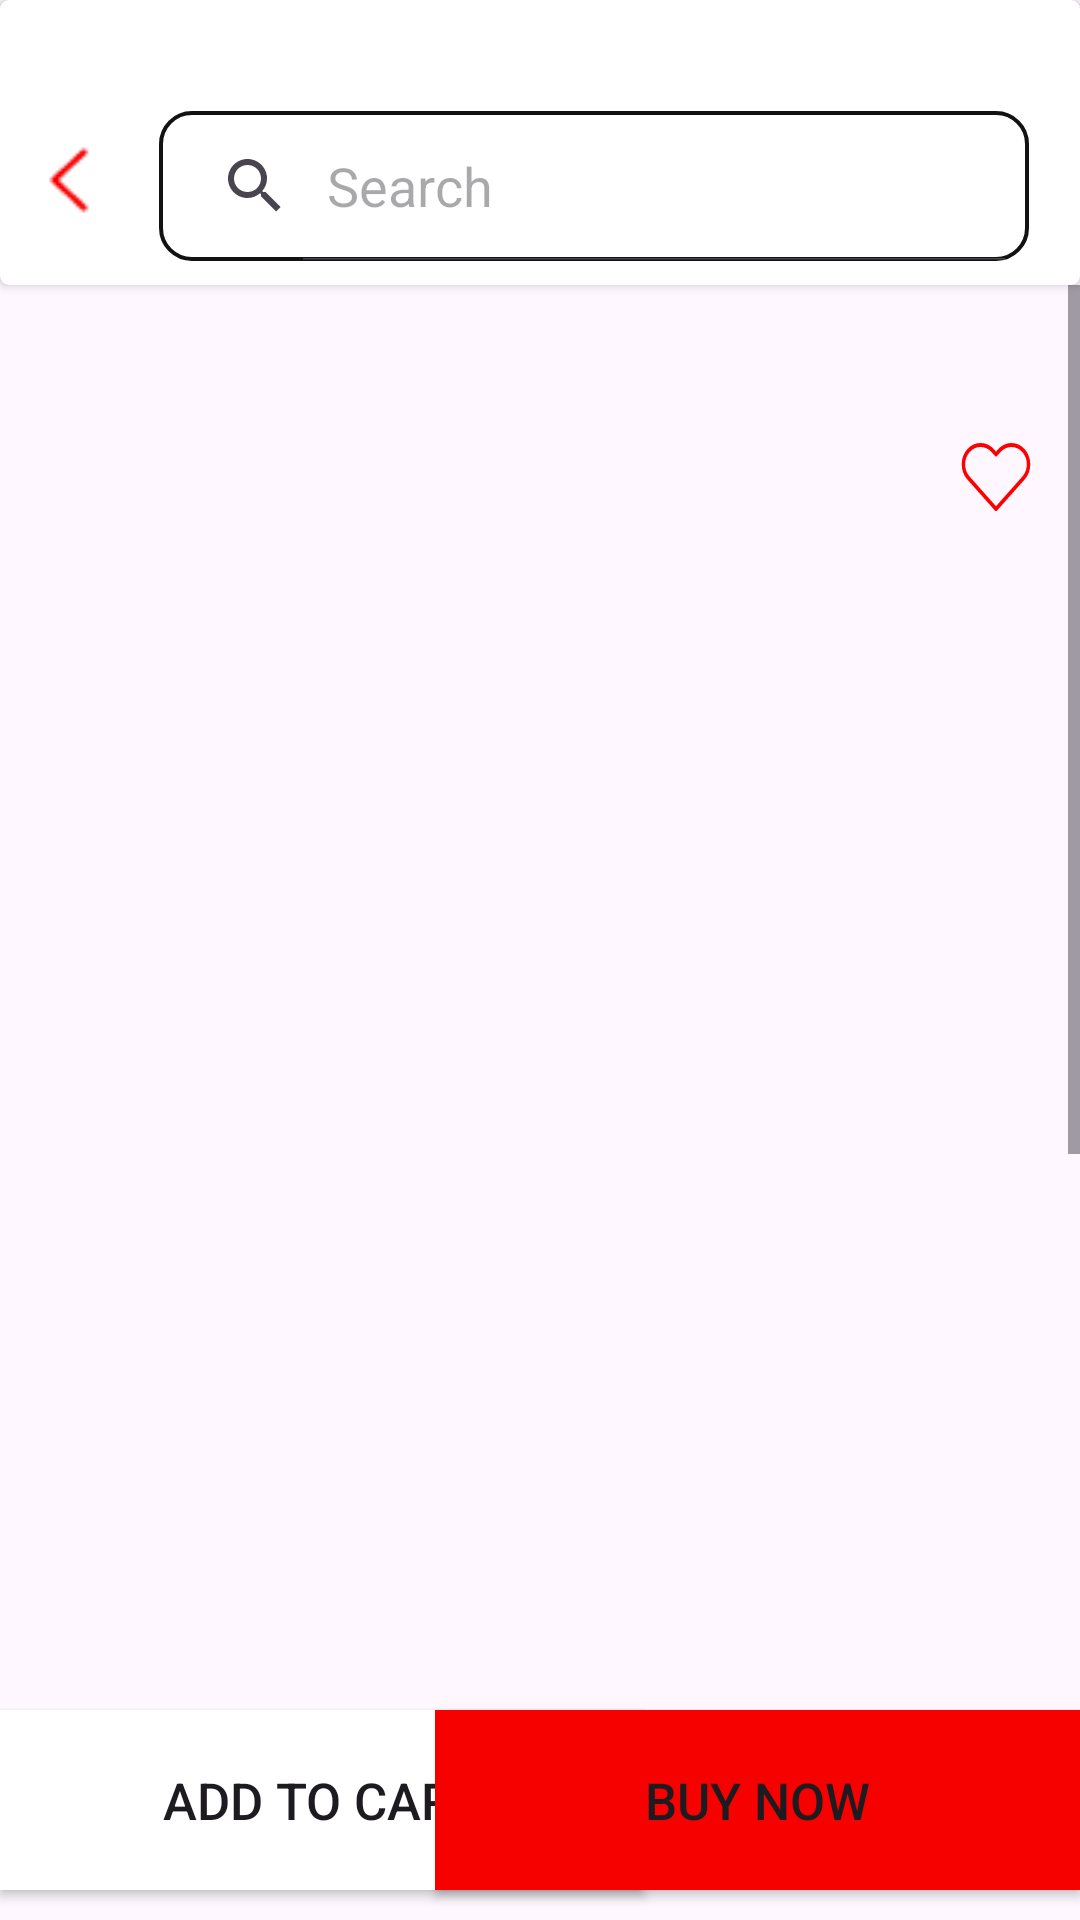

Point at icon controls on the screen. Image size 1080px×1920px, points as (x=x, y=y).
arrowback: (x=69, y=180)
heart: (x=996, y=477)
